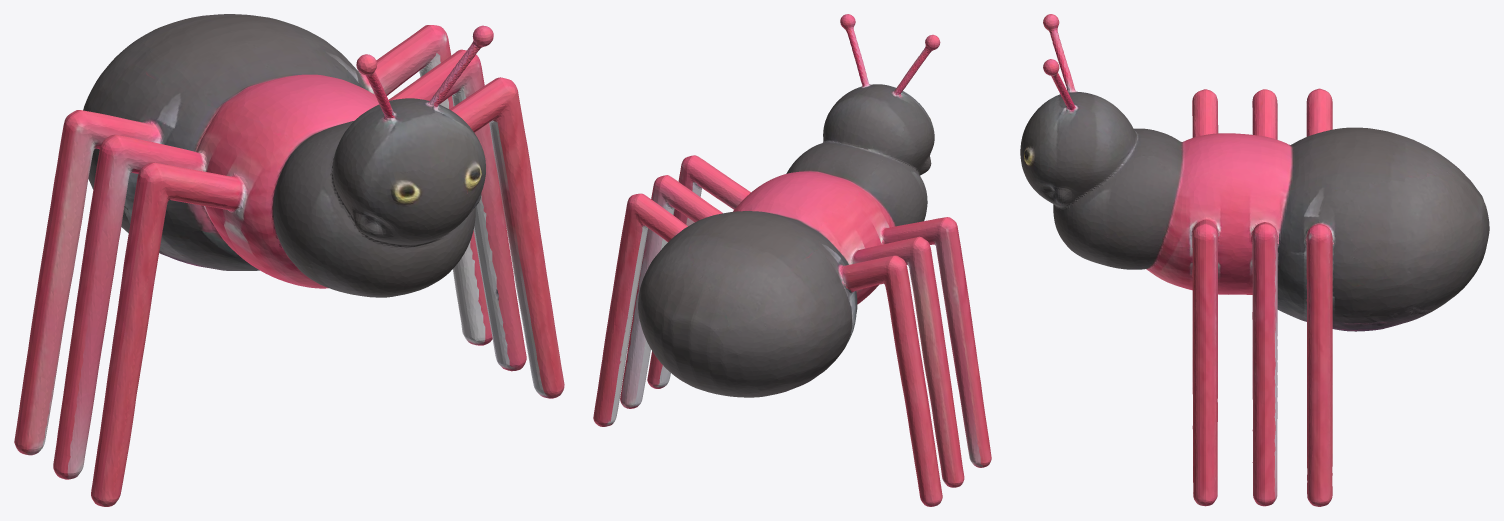
File: creature-086.glb
3 renders of one model, left to right at view 1: azimuth 30°, elevation 25°; view 2: azimuth 150°, elevation 25°; view 3: azimuth 270°, elevation 25°, orthographic. The views are drawn at different scales.
Parts seen in each view (by area): view 1: tmp1s69krpw.ply; view 2: tmp1s69krpw.ply; view 3: tmp1s69krpw.ply.
Boxes of the visible parts, x1=… form: tmp1s69krpw.ply: x1=14, y1=14, x2=564, y2=506; tmp1s69krpw.ply: x1=593, y1=14, x2=991, y2=506; tmp1s69krpw.ply: x1=1020, y1=14, x2=1489, y2=506.
Size of the model in its own units: 1.39 by 1.34 by 1.5.
Materials: 1 (1 with a texture image).
